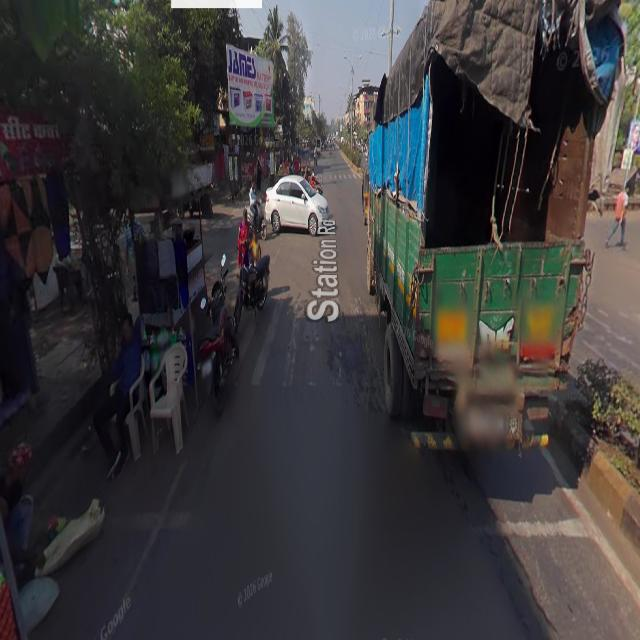illegalparking: (198, 240, 274, 432)
